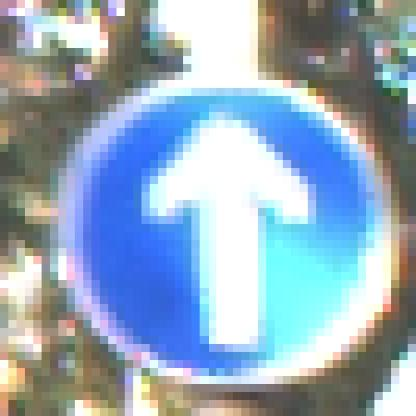AheadOnly: (43, 49, 376, 377)
